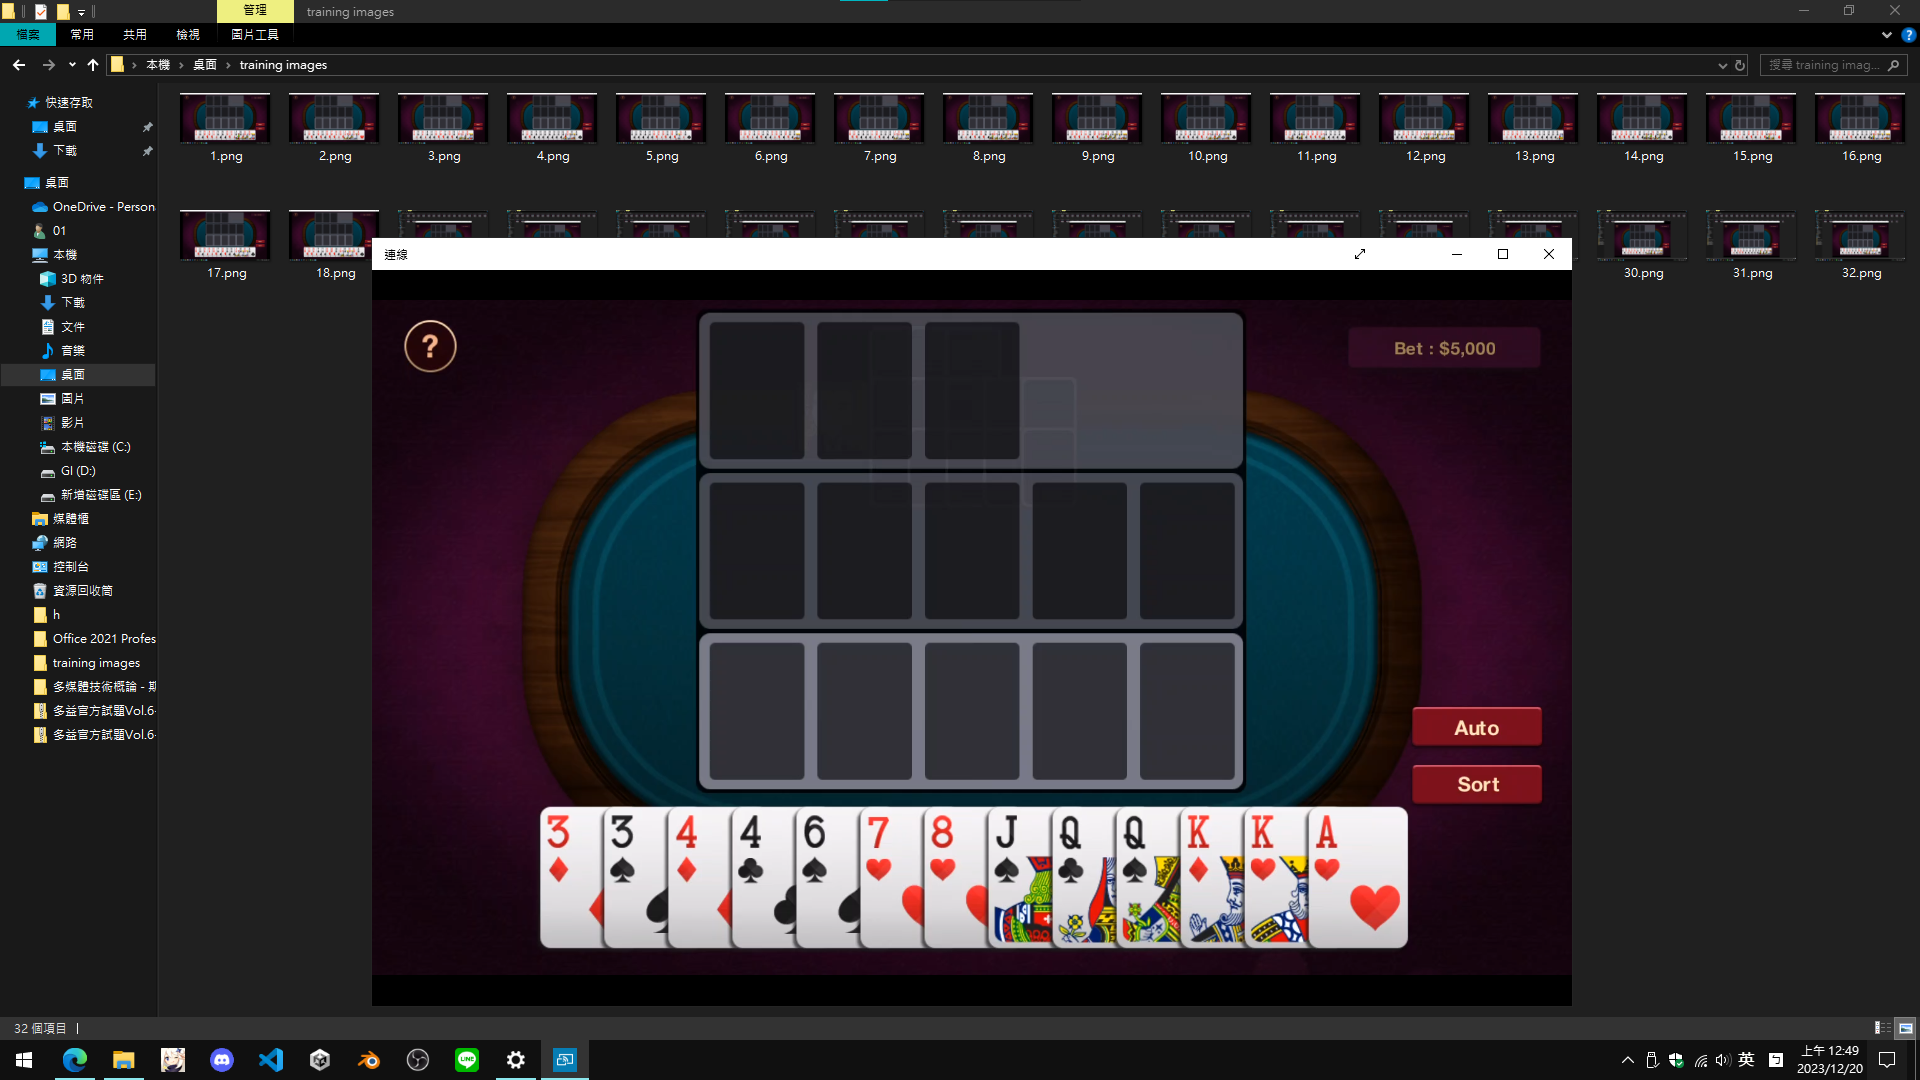3D: (543, 811, 575, 886)
3S: (608, 811, 640, 887)
4C: (735, 812, 766, 890)
4D: (673, 811, 700, 887)
6S: (800, 811, 831, 889)
7H: (862, 814, 895, 884)
8H: (927, 812, 959, 885)
AH: (1312, 811, 1341, 885)
JS: (993, 811, 1023, 890)
KD: (1185, 811, 1212, 884)
KH: (1247, 811, 1278, 885)
QC: (1056, 811, 1087, 889)
QS: (1121, 811, 1150, 889)
